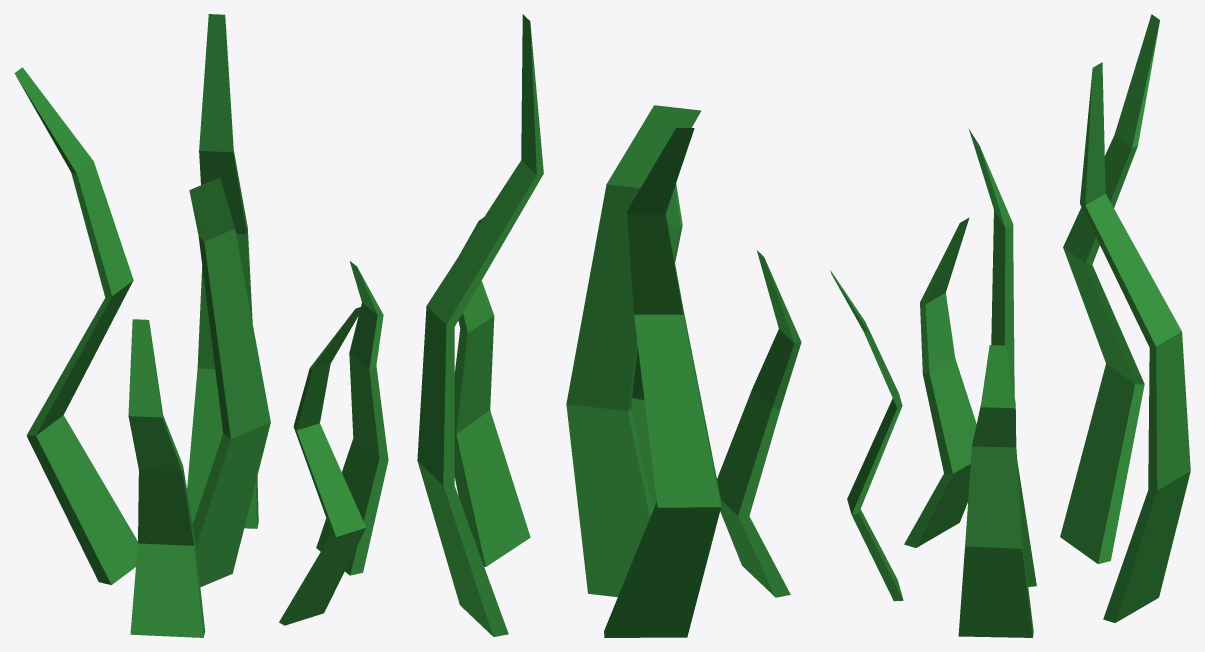
The model's file is Grass_5_Green.fbx.
3 views of the same model, side by side, from view 1: azimuth 30°, elevation 25°; view 2: azimuth 150°, elevation 25°; view 3: azimuth 270°, elevation 25° (orthographic). The views are drawn at different scales.
Visible parts, largest first — view 1: Grass_5_Green; view 2: Grass_5_Green; view 3: Grass_5_Green.
Boxes of the visible parts, x1=… form: Grass_5_Green: x1=14, y1=14, x2=388, y2=637; Grass_5_Green: x1=417, y1=14, x2=801, y2=637; Grass_5_Green: x1=830, y1=14, x2=1190, y2=637.
Size of the model in its own units: 22.89 by 39.47 by 24.19.
